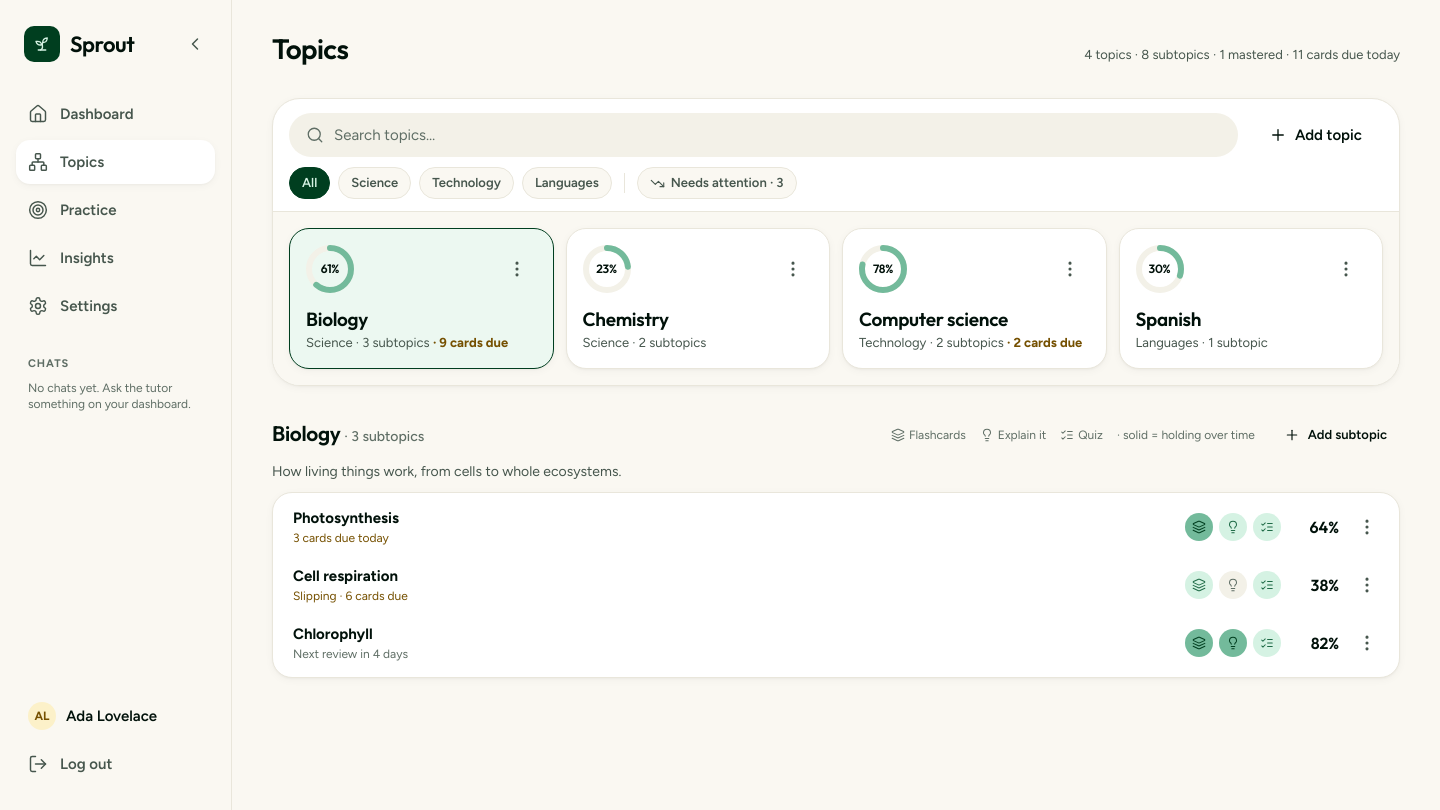
Scenario: TopicsView › adds a topic in a dialog and shows it
Click the button with test id "add-topic" at [1315, 135], box [1248, 113, 1383, 157]
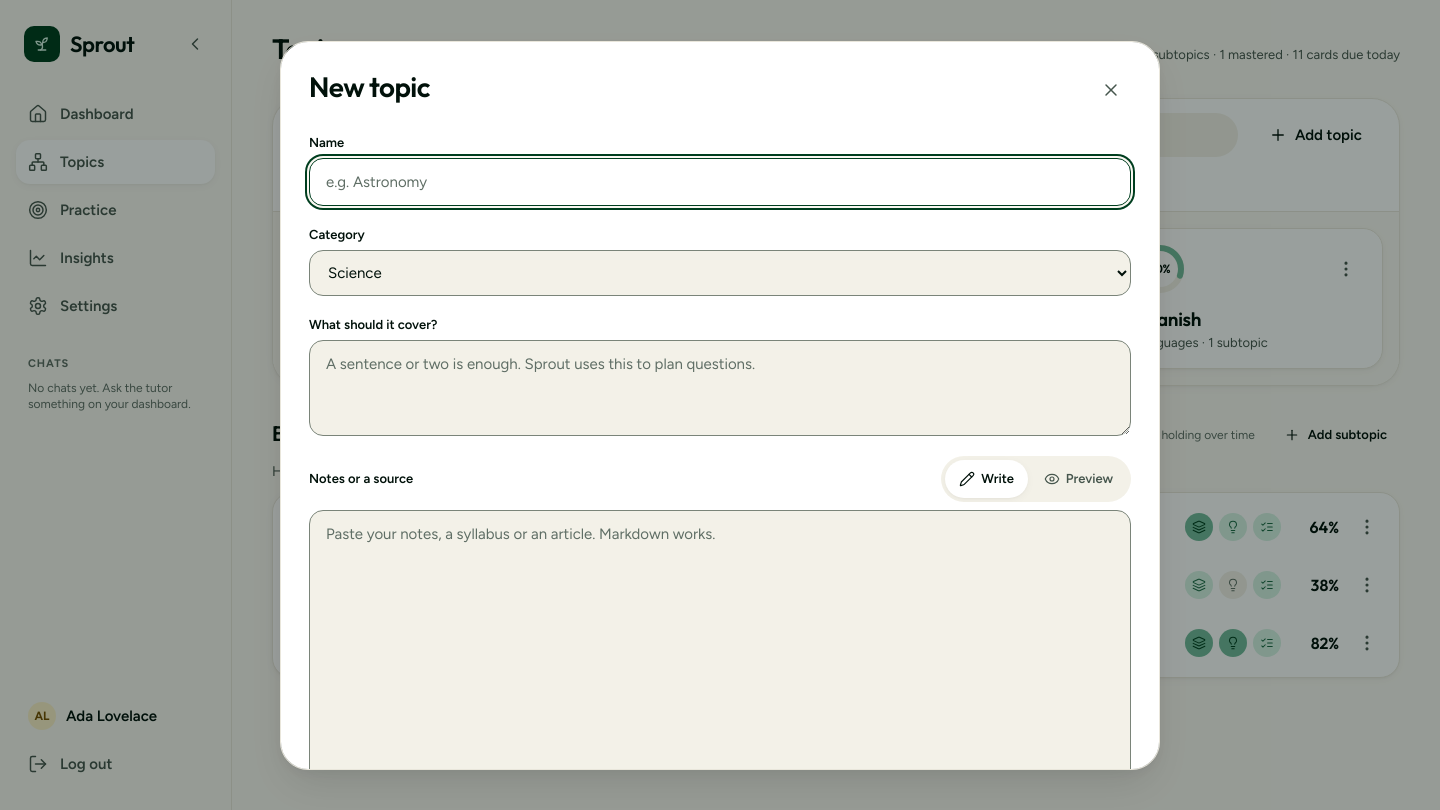
Now the heading "New topic" is shown, box [309, 70, 430, 104]
Type "Astronomy" into the field with test id "name" at [724, 182], box [326, 158, 1122, 204]
(page scrolled)
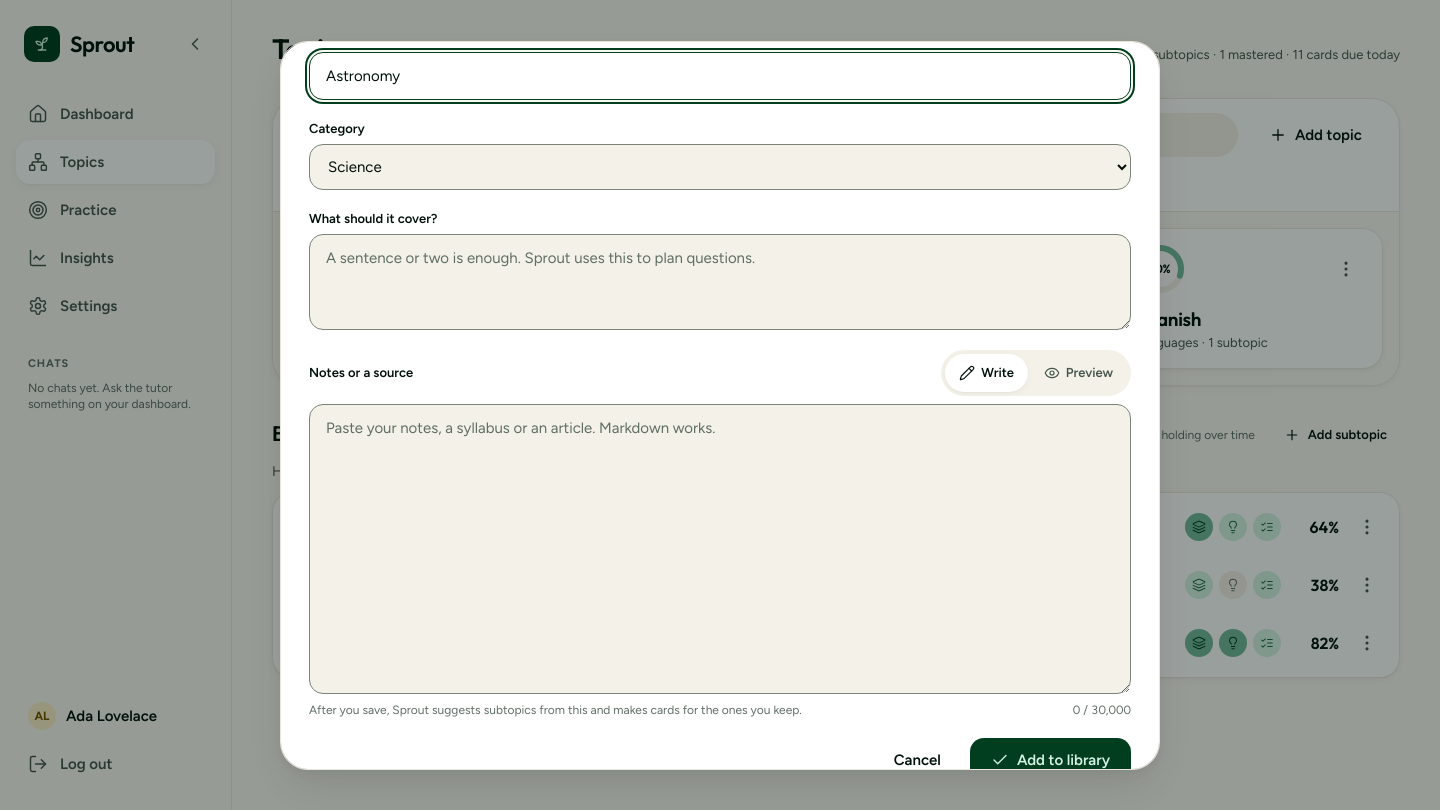
Submit the form, box [309, 28, 1131, 782]
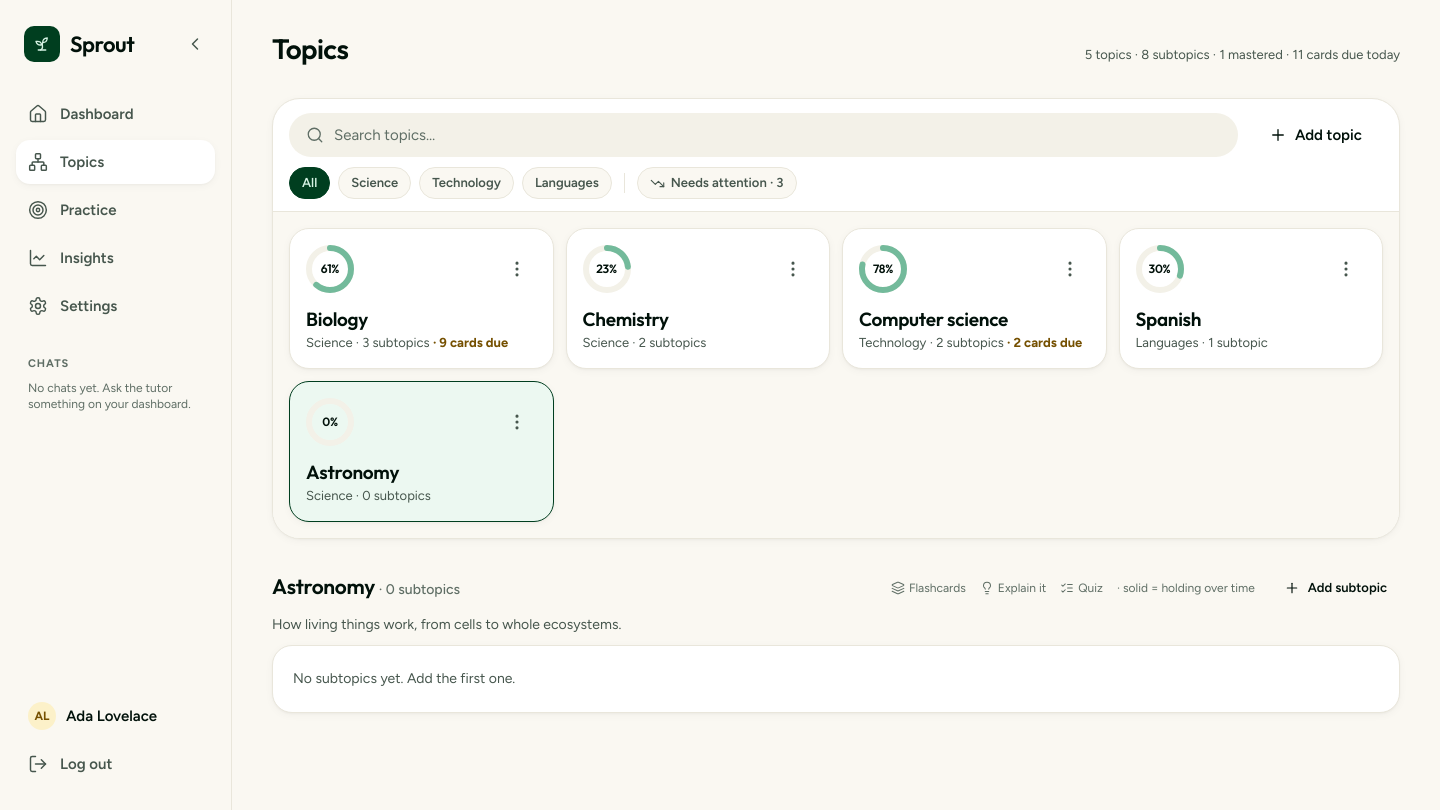
Now the heading with test id "subtopics-heading" shows "Astronomy", box [272, 573, 379, 599]
Now the list item with test id "no-subtopics" reads "No subtopics yet. Add the first one.", box [293, 670, 515, 687]
